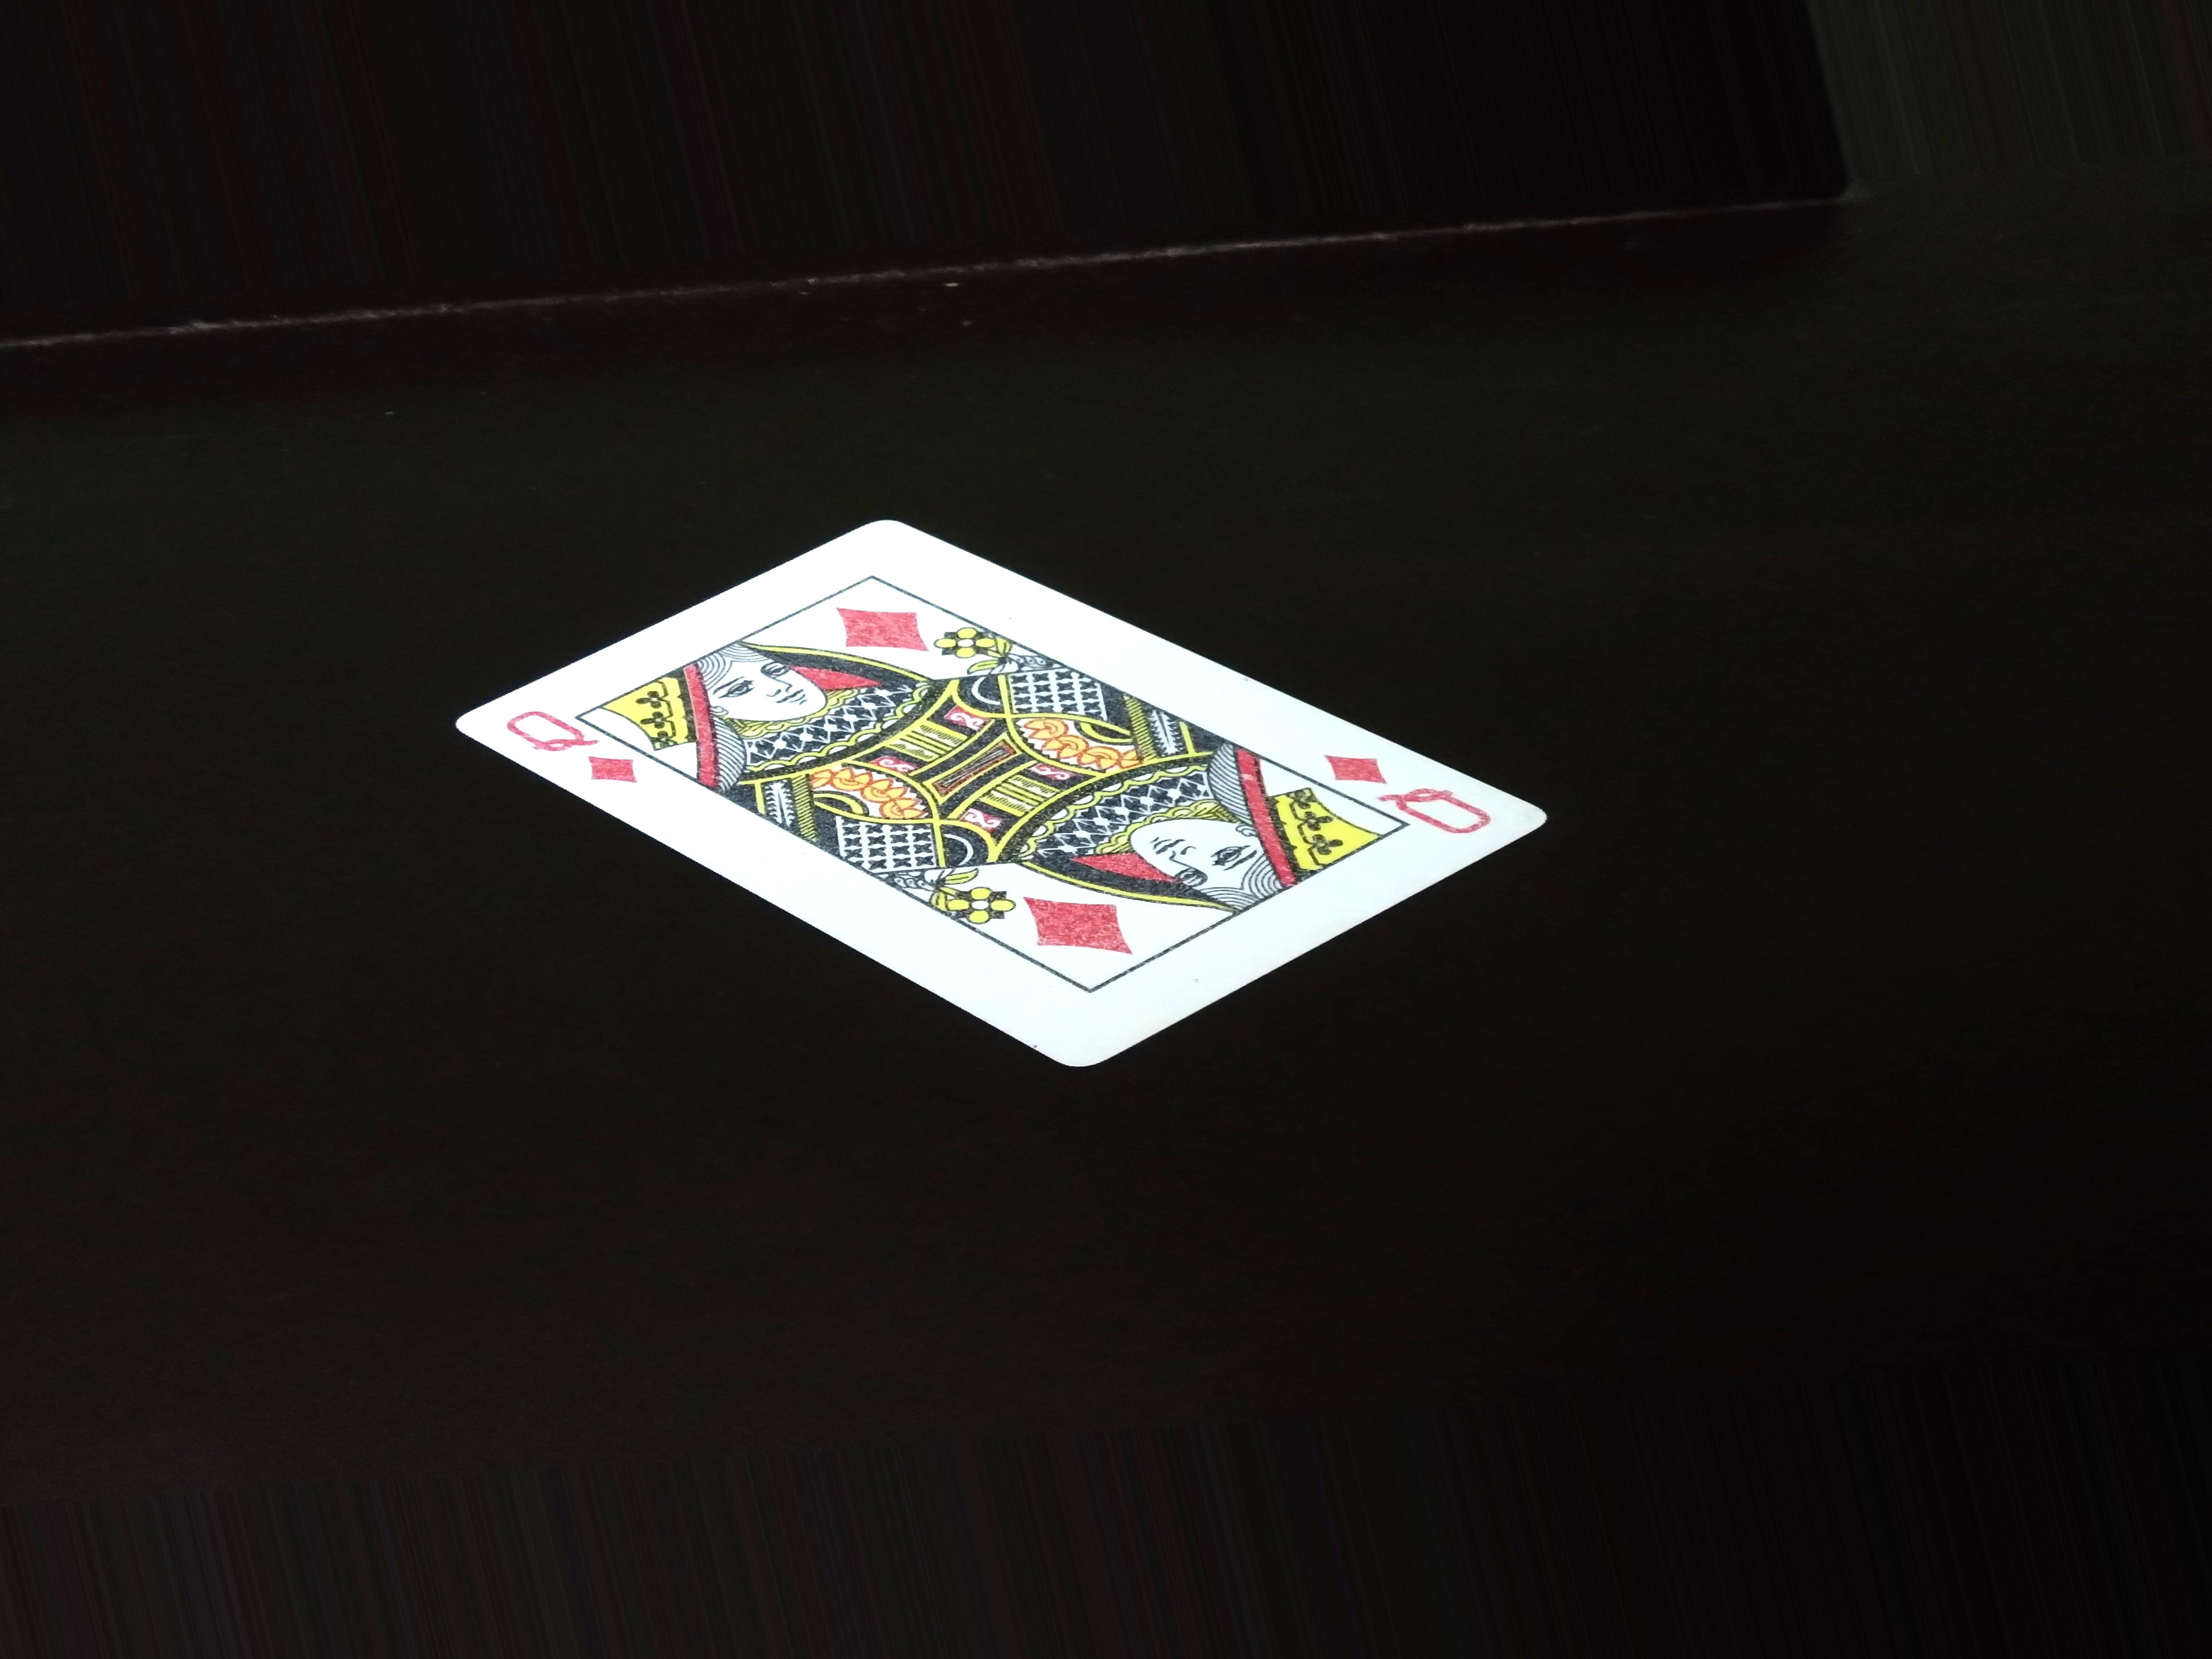QD: (498, 704, 651, 795)
